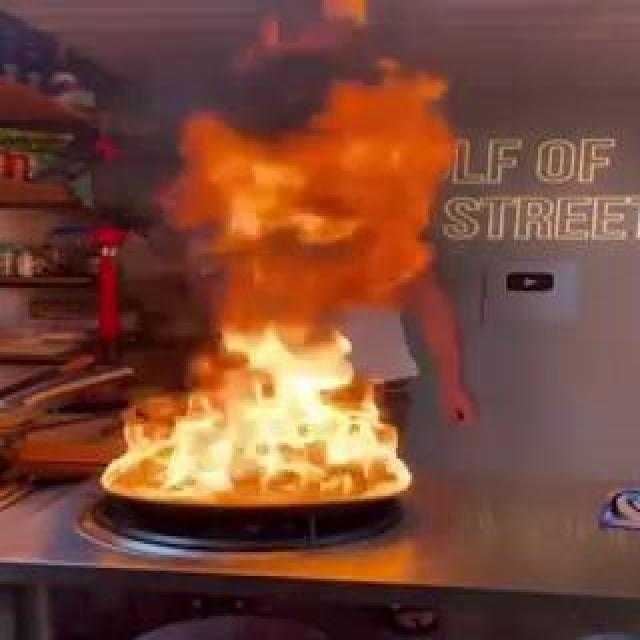Fire: (268, 322, 368, 352)
